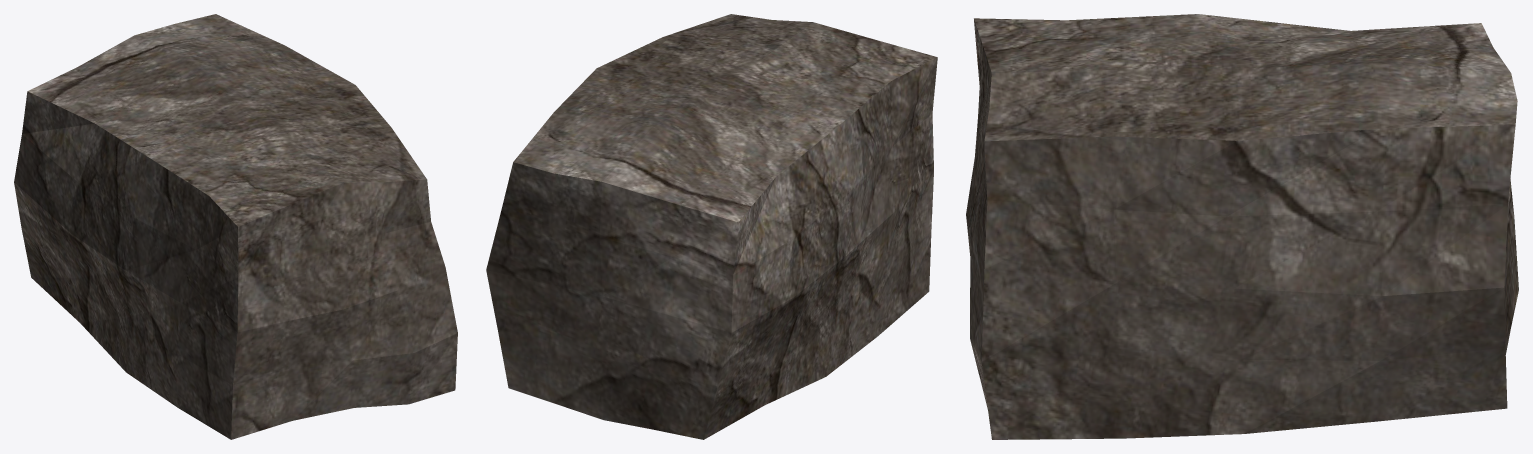
The model's file is Rock_2.obj.
3 views of the same model, side by side, from view 1: azimuth 30°, elevation 25°; view 2: azimuth 150°, elevation 25°; view 3: azimuth 270°, elevation 25° (orthographic). The views are drawn at different scales.
Parts seen in each view (by area): view 1: Rock_2_Cube; view 2: Rock_2_Cube; view 3: Rock_2_Cube.
Part boxes in pixels (bbox=[...]): Rock_2_Cube: bbox=[14, 14, 457, 439]; Rock_2_Cube: bbox=[486, 14, 937, 439]; Rock_2_Cube: bbox=[966, 14, 1518, 439].
Size of the model in its own units: 1.38 by 1.38 by 2.17.
Materials: 1 (1 with a texture image).
